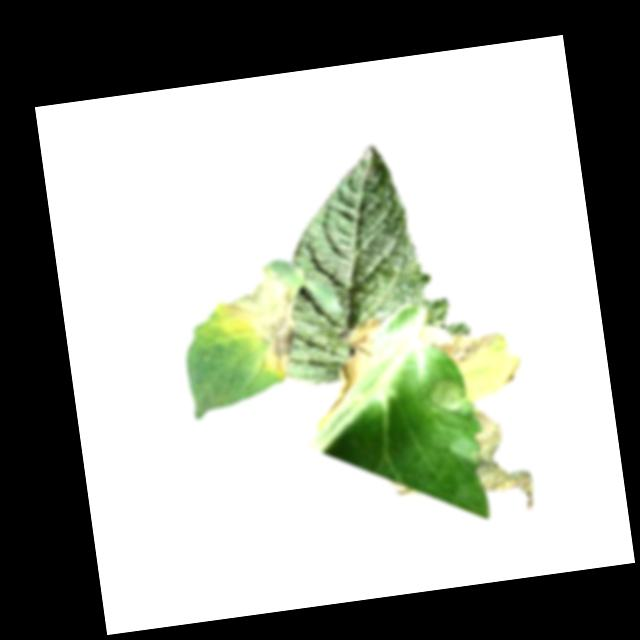Late_blight: (212, 258, 307, 387), (443, 398, 539, 520), (301, 315, 397, 431), (416, 315, 528, 409), (426, 374, 472, 415), (390, 476, 419, 500)
healthy: (258, 134, 475, 388)
